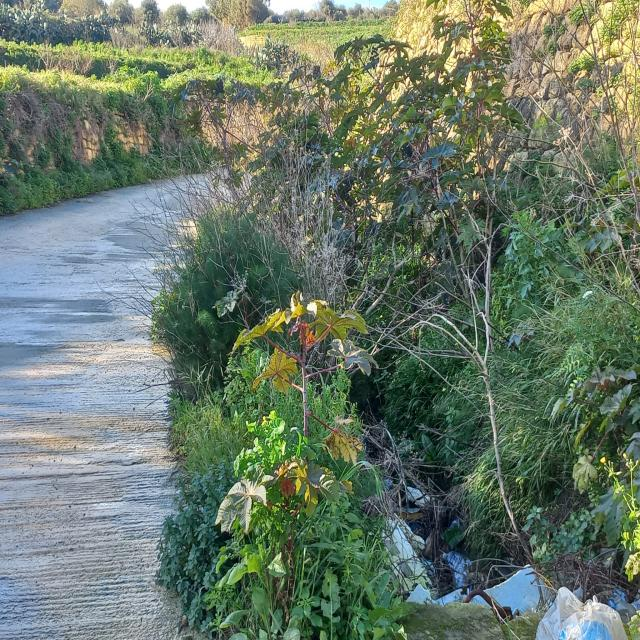Bottle: (442, 550, 472, 589), (444, 518, 459, 531)
Other litter: (393, 488, 435, 580), (461, 590, 513, 625)
Other plastic: (616, 601, 636, 623), (606, 588, 625, 609), (631, 598, 640, 611), (384, 478, 390, 490)
Plastic bag - wrapper: (534, 586, 629, 640)
Styrofoam piece: (404, 563, 554, 618), (379, 519, 433, 593)
